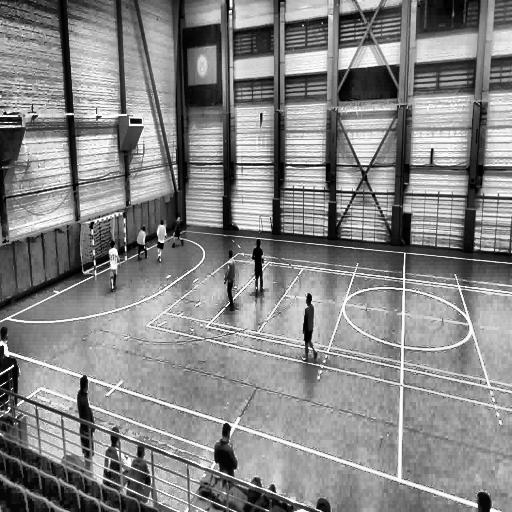player: (78, 376, 96, 474), (302, 294, 317, 362), (252, 238, 264, 296), (225, 249, 236, 310), (109, 240, 120, 291), (156, 220, 166, 263), (171, 216, 184, 247), (136, 226, 148, 259)
